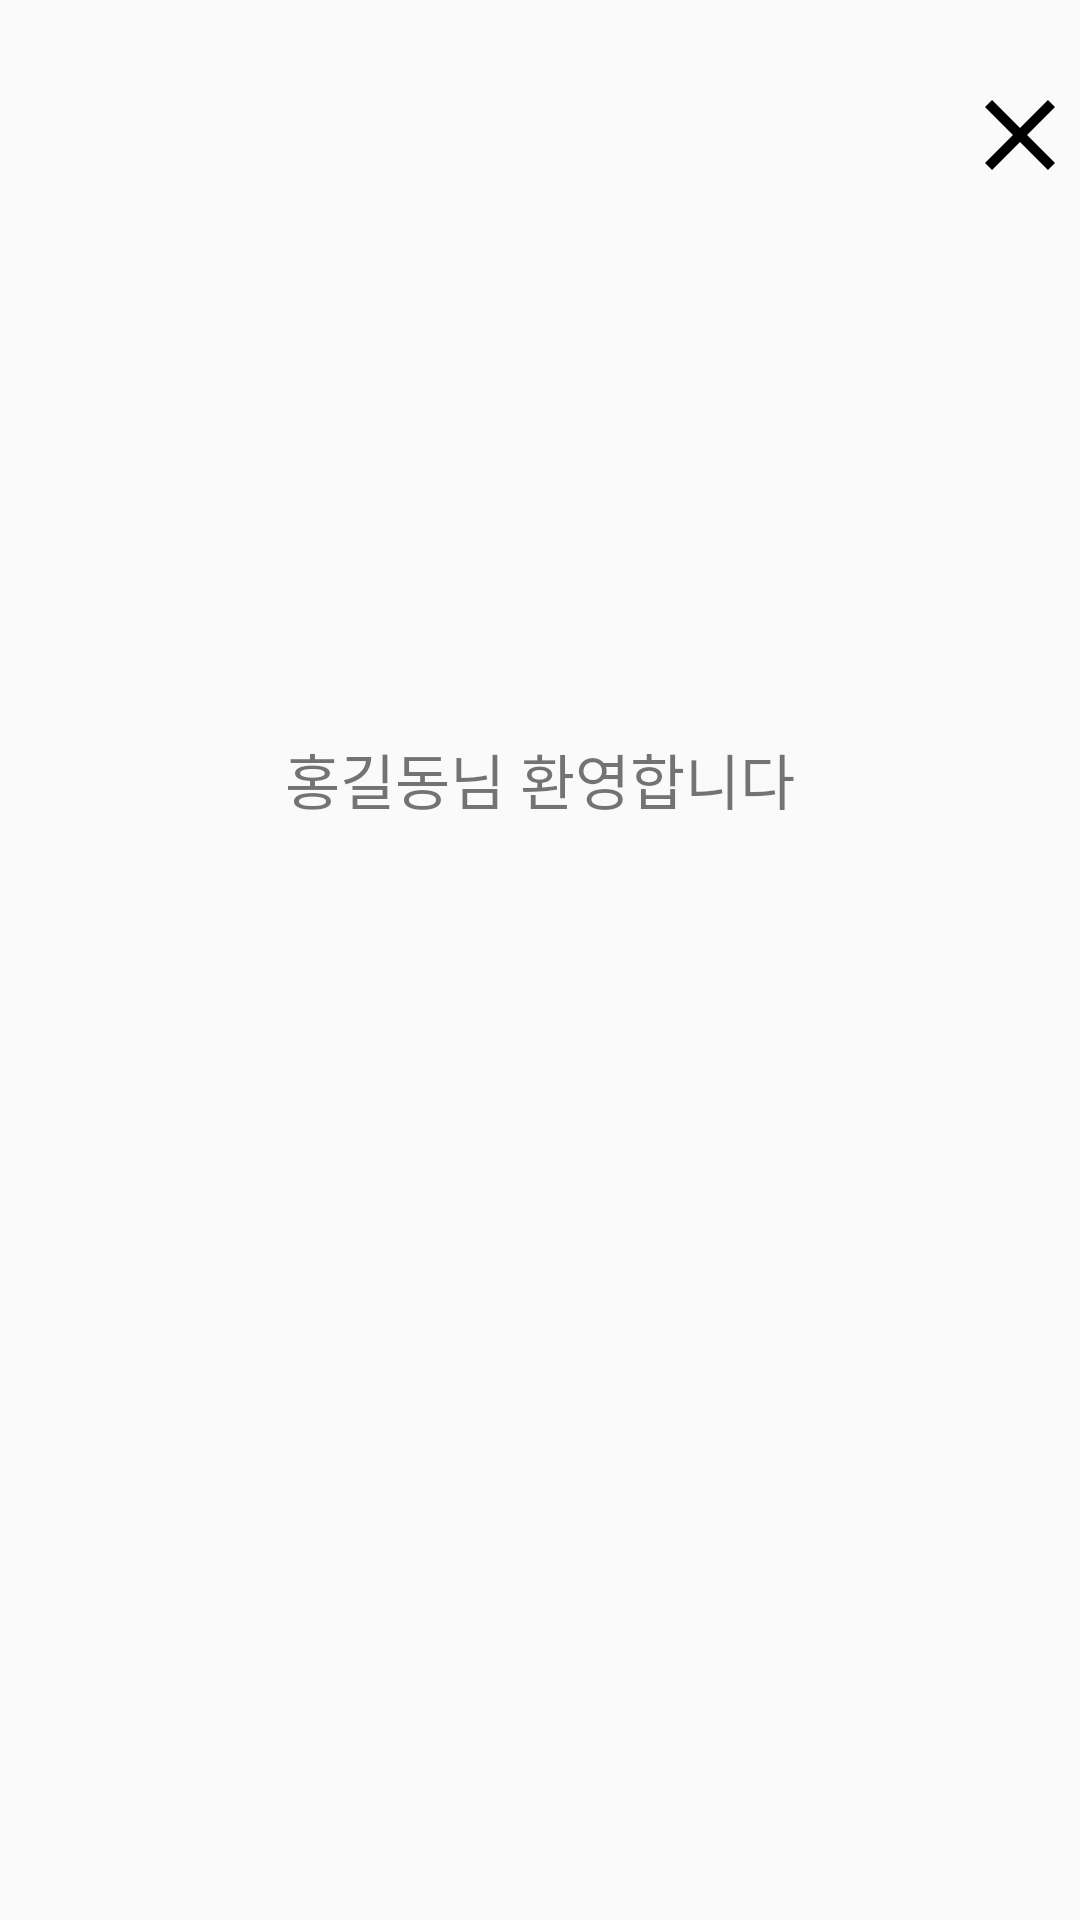

Where icons sit on this 1080*1920 app screen, as (x1, y1, x2, y2):
close: (985, 100, 1055, 170)
